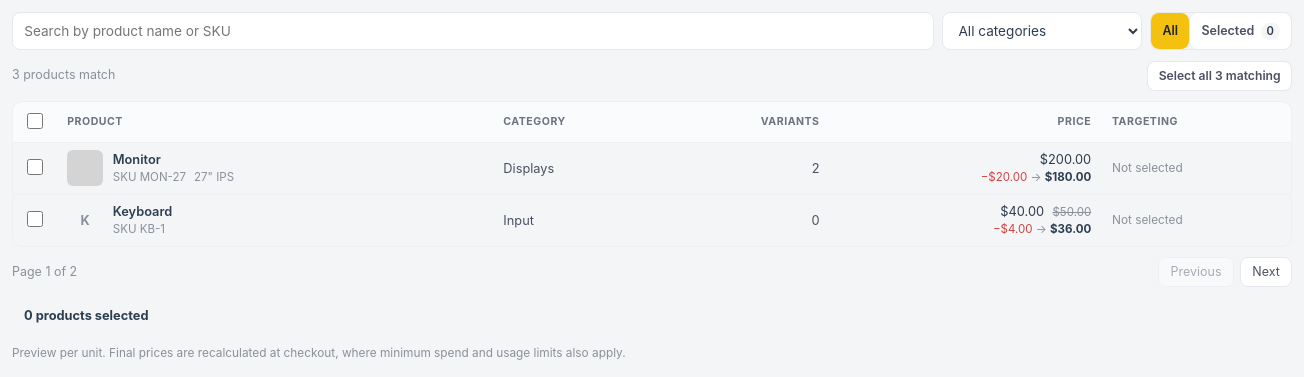
Test: PromotionProductTargets › keeps selections across pages and searches
The width and height of the screenshot is (1304, 377).
Click the row that starts with "Monitor" at (652,168), box 13,142 -> 1291,194
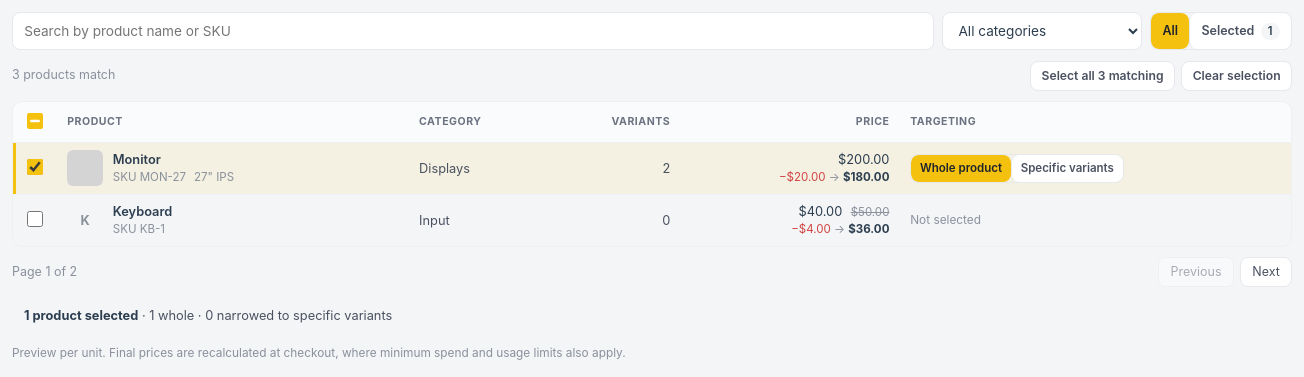
Click the button "Next" at (1266,272), box 1240,257 -> 1292,287
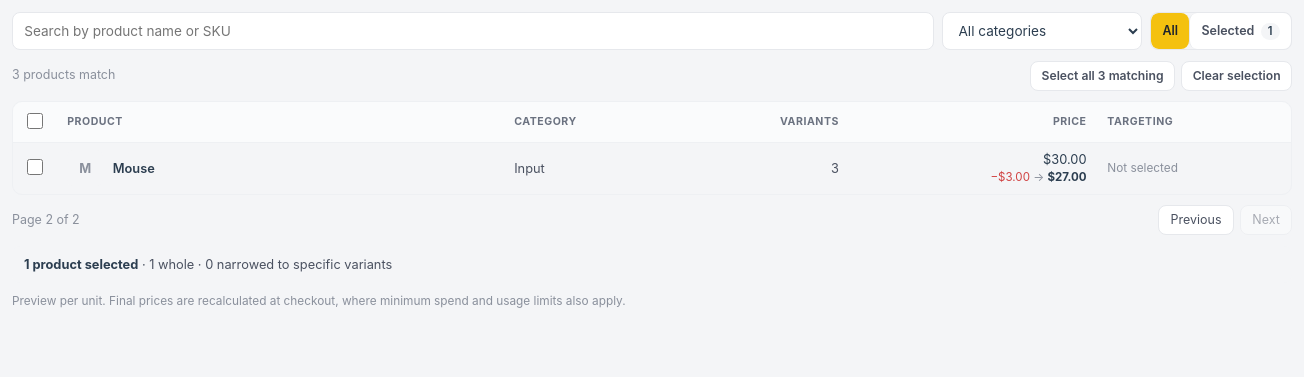
Click the row "M Mouse Input 3 $30.00 −$3.00 → $27.00 Not selected" at (652,168), box 13,142 -> 1291,194
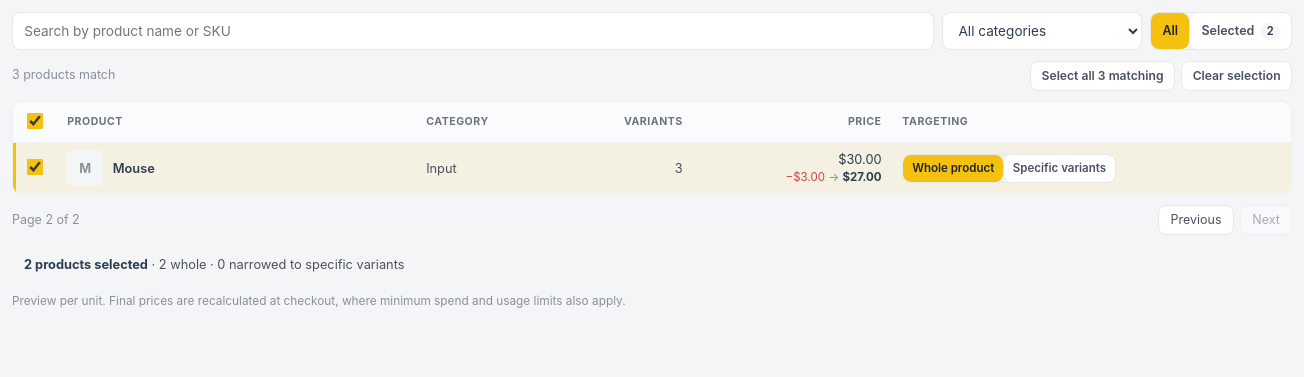
Result: the text "2 products selected" is shown at 24,257 -> 148,272
